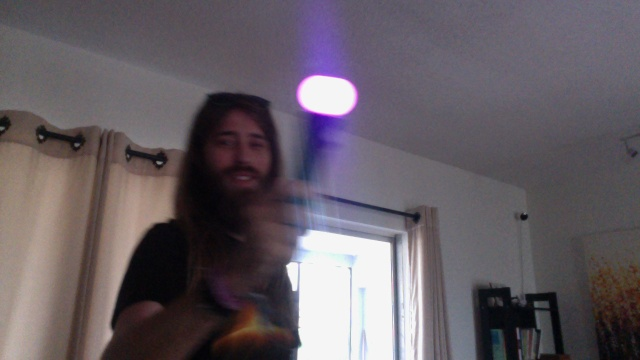wand: (298, 74, 356, 116)
